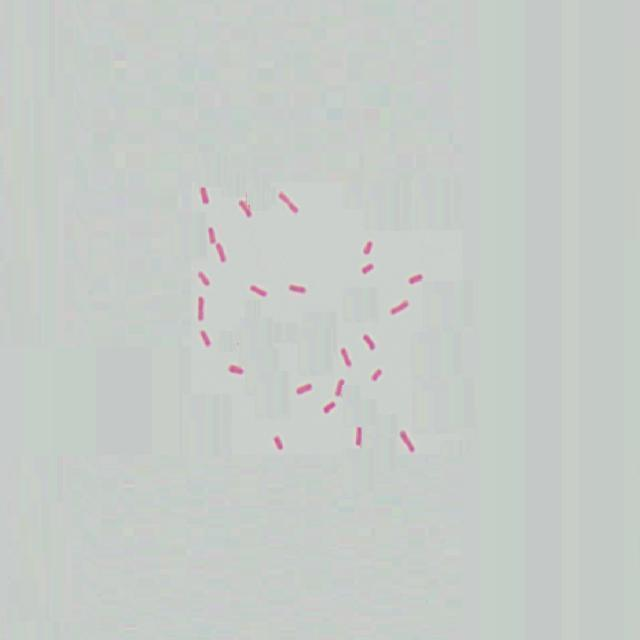E-coli: (276, 188, 302, 215), (335, 334, 352, 372), (235, 195, 258, 222), (398, 426, 416, 459), (284, 277, 308, 299), (387, 299, 410, 320), (248, 281, 269, 302), (192, 293, 207, 322), (404, 271, 428, 289), (197, 326, 214, 351), (360, 332, 379, 354), (198, 182, 212, 210), (319, 398, 338, 418), (360, 259, 375, 283), (195, 269, 211, 289), (272, 433, 287, 454), (359, 240, 375, 259), (229, 359, 245, 378), (215, 243, 228, 265), (205, 223, 217, 246), (295, 381, 312, 396), (355, 424, 365, 449), (332, 378, 346, 395), (372, 368, 383, 386)
